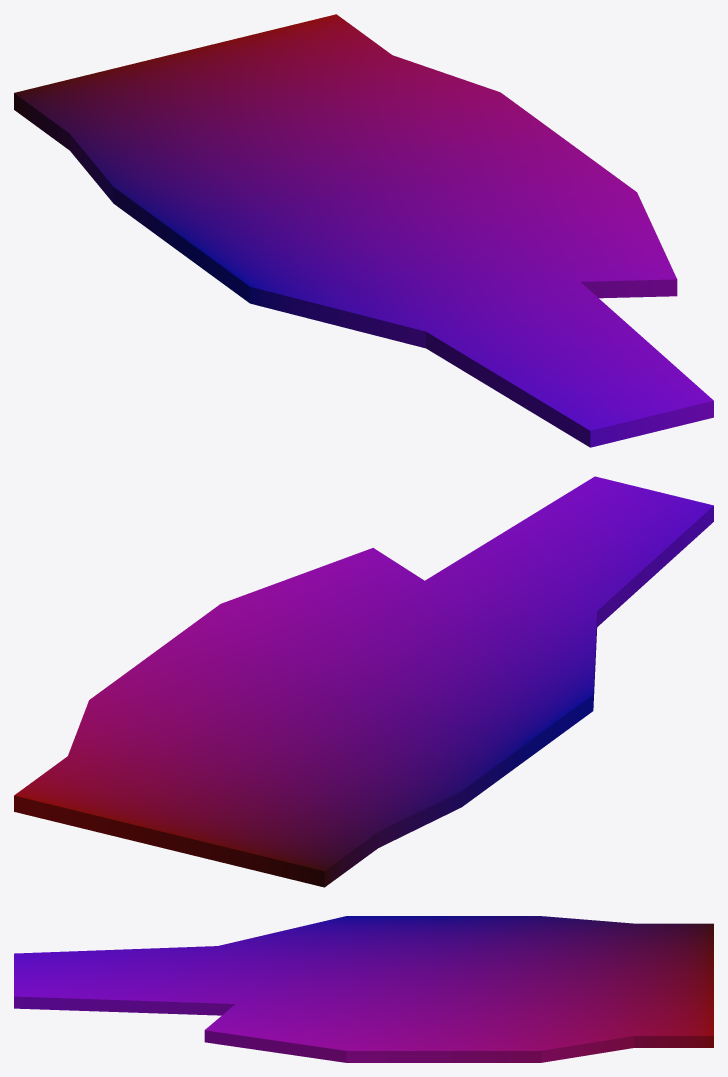
3 renders of one model, top to bottom at view 1: azimuth 30°, elevation 25°; view 2: azimuth 150°, elevation 25°; view 3: azimuth 270°, elevation 25°, orthographic. The views are drawn at different scales.
Parts seen in each view (by area): view 1: model_2CC5; view 2: model_2CC5; view 3: model_2CC5.
Boxes of the visible parts, <box> form: model_2CC5: <box>14,14,713,447</box>; model_2CC5: <box>14,476,713,887</box>; model_2CC5: <box>14,916,713,1062</box>.
Size of the model in its own units: 72.56 by 3.02 by 159.
